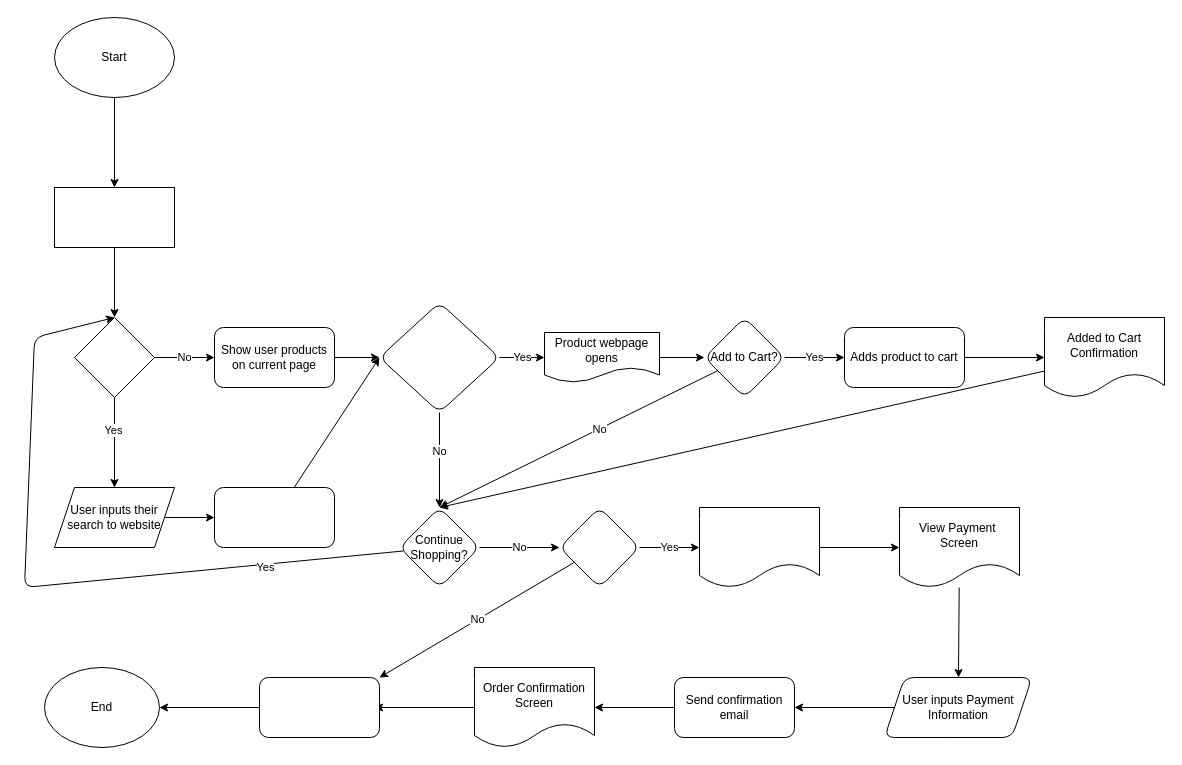
Image size: 1182x765. Some labels were removed from this diagram. The shapes that lost their labels are listed below. From the top down, each one's centre as x and y in pixels, then its label:
At pixel 114 217: "User enters the website to the home page".
At pixel 114 357: "Search for Products?".
At pixel 439 357: "View Specific Product?".
At pixel 274 517: "Show user products that match their search".
At pixel 599 547: "Checkout?".
At pixel 759 547: "View Cart Screen".
At pixel 319 707: "User leaves website".
